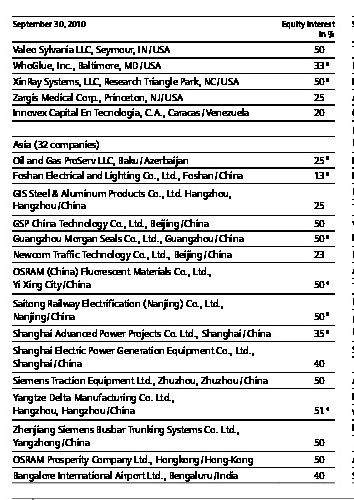table: (0, 0, 354, 500)
